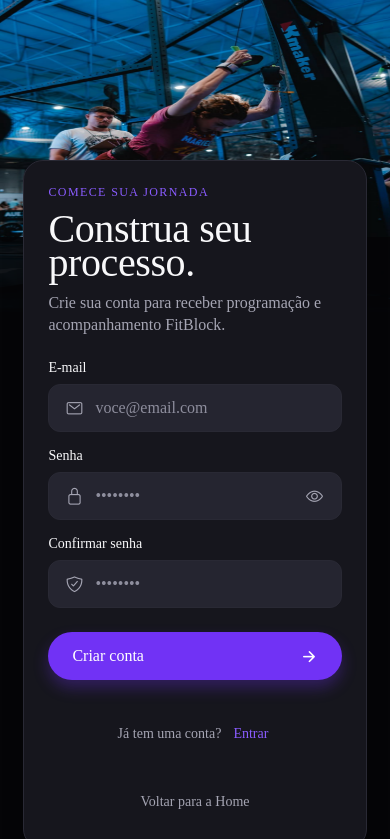
Test: AuthScreen › sign-up flow (criar conta de atleta) › rejects signup when password confirmation does not match
Type "newathlete@fitblock.test" into the field with test id "auth-email" at (204, 408), box [83,385,325,431]
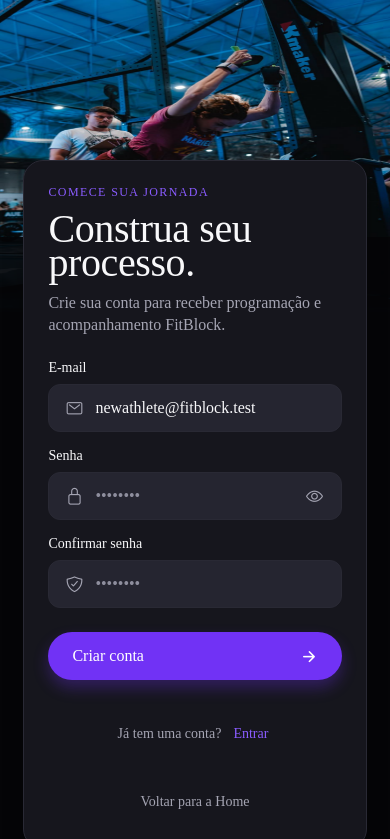
Type "StrongPass123!" into the password field with test id "auth-password" at (188, 496), box [83,473,293,519]
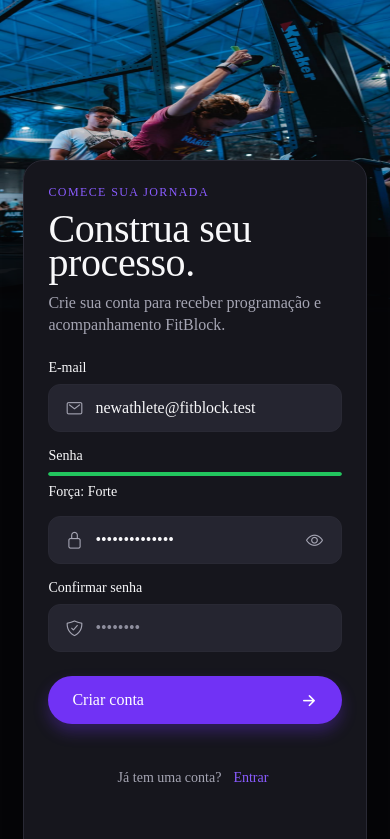
Type "DifferentPass123!" into the password field with test id "auth-confirm-password" at (204, 628), box [83,605,325,651]
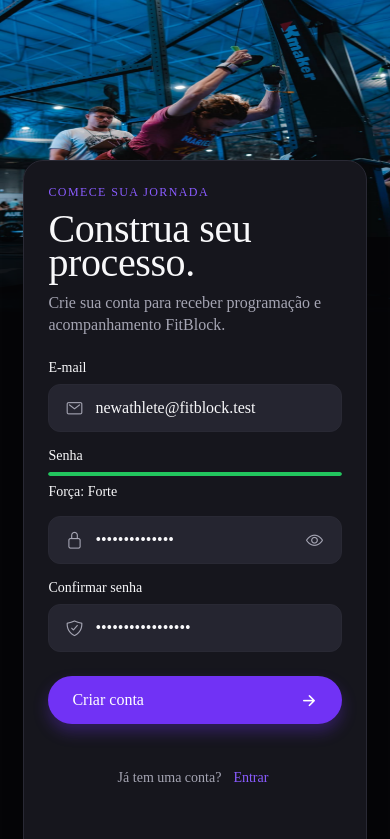
Click the button with test id "auth-submit" at (108, 700), box [48,676,342,724]
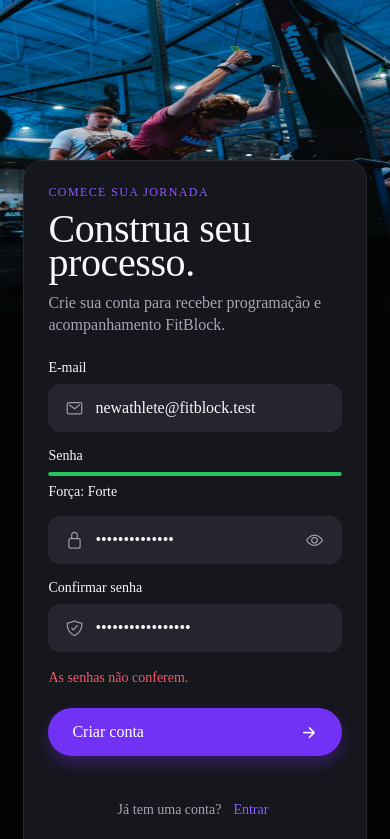
expect the text "As senhas não conferem." is shown: met, box [48,670,188,685]
